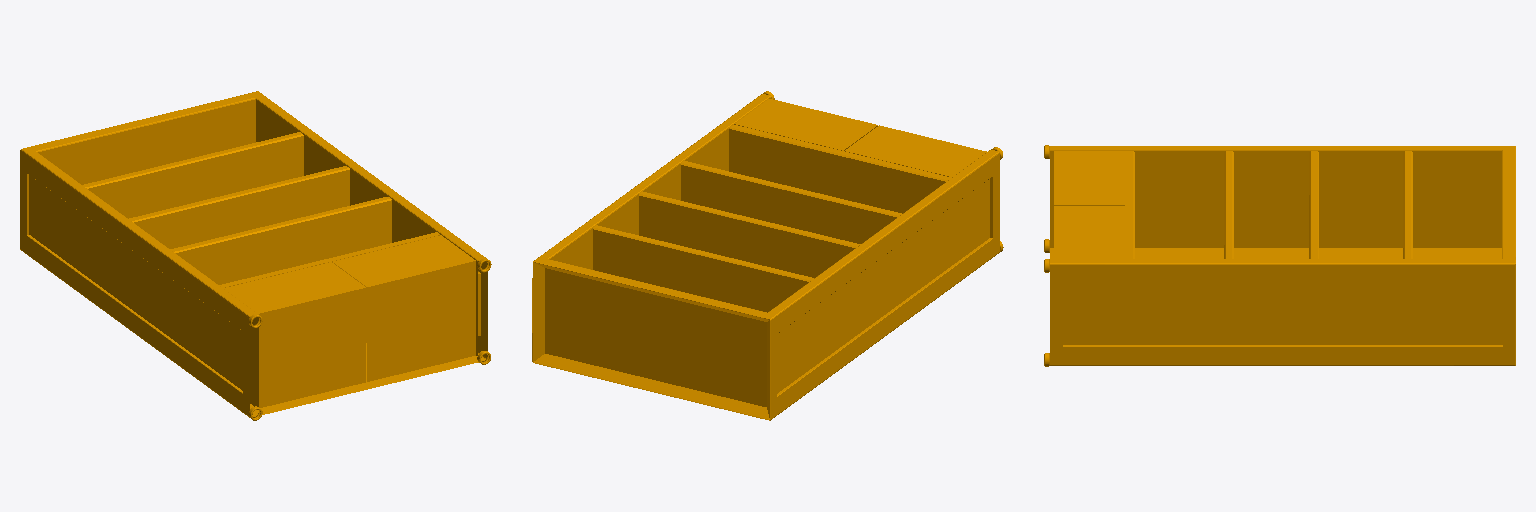
The robot description file, URDF, robot "none":
<robot name="none">
       <link name="none">
           <visual>
               <origin xyz="0 0 0" />
               <geometry>
                   <mesh filename="uploads_files_4140237_Antique+BookShelf.obj"  scale="0.8 0.8 0.8" />
               </geometry>
           </visual>
          <collision>
<origin rpy="1.57 0 0" xyz="0 0 1" />
              <geometry>
                  <box size="1.0000 2.000000 0.516547" />
              </geometry>
          </collision>

          <inertial>
            <mass value="0.0" />
            <inertia ixx="0.05" ixy="0.0" ixz="0.0" iyy="0.05" iyz="0.0" izz="0.05"/>
          </inertial>
      </link>
  </robot>

--- Facts derived from the render (not from the file) ---
Views: 3 orthographic renders of the robot side by side, from view 1: azimuth 30°, elevation 25°; view 2: azimuth 150°, elevation 25°; view 3: azimuth 270°, elevation 25°.
Robot: none — 1 links, 0 joints (none); root link none; default pose: every joint at zero.
Links seen in each view (by area): view 1: none; view 2: none; view 3: none.
Boxes of the visible links, x1,y1,x2,y2 form: none: [20, 91, 491, 420]; none: [532, 91, 1003, 420]; none: [1044, 145, 1515, 366].
Bounding box of the posed robot: 0.96 × 1.6 × 0.4 m (x, y, z).
Meshes: 1 distinct files referenced, 1 mesh visuals loaded (1 OBJ).